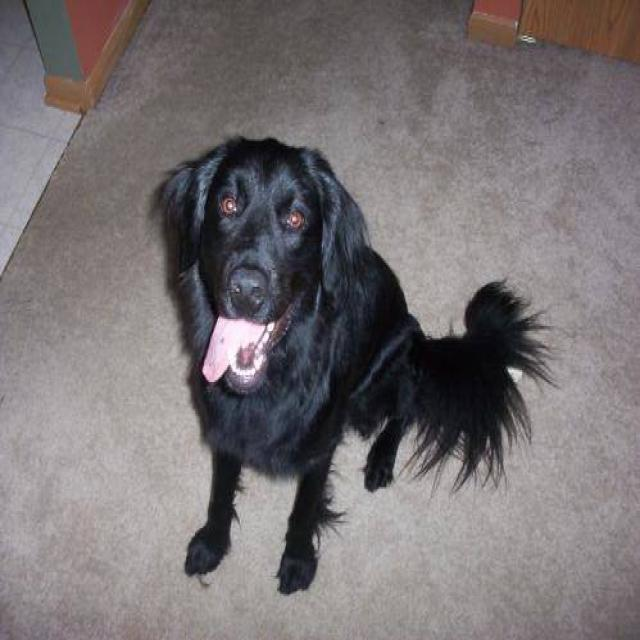dog: (153, 132, 563, 596)
